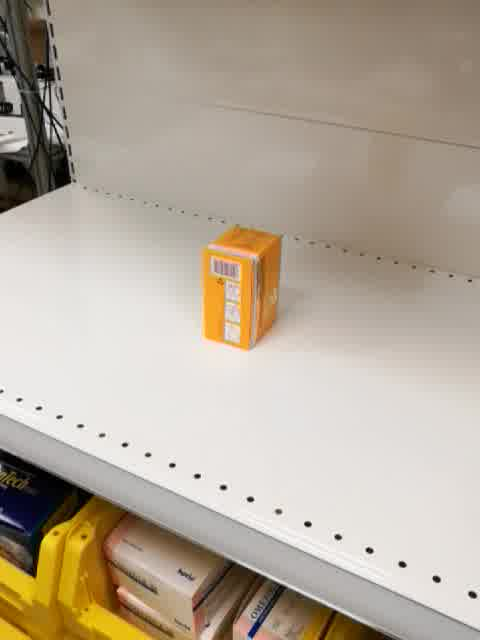jasminetea: (201, 228, 285, 351)
